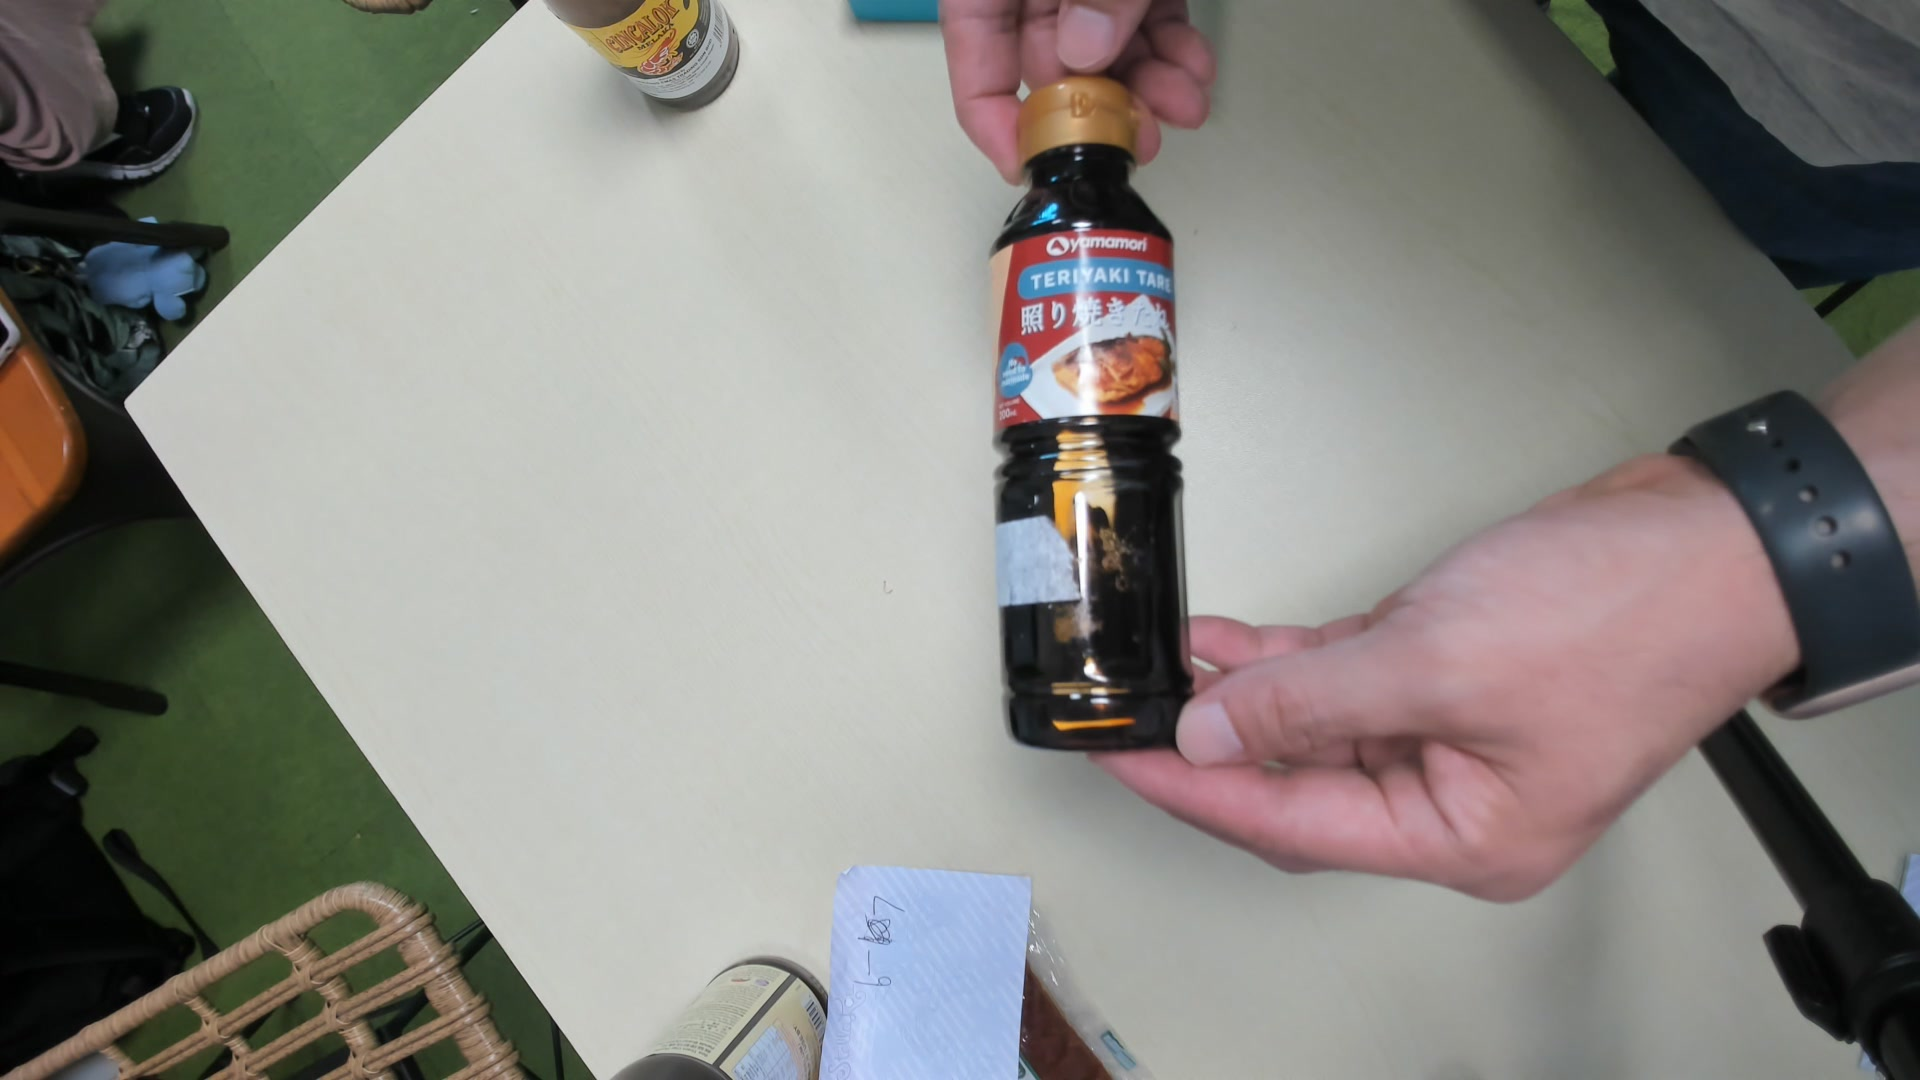OtherSauceDressingSoupbasePaste_200-299g_Halal_NonHealthy: (990, 78, 1196, 758)
